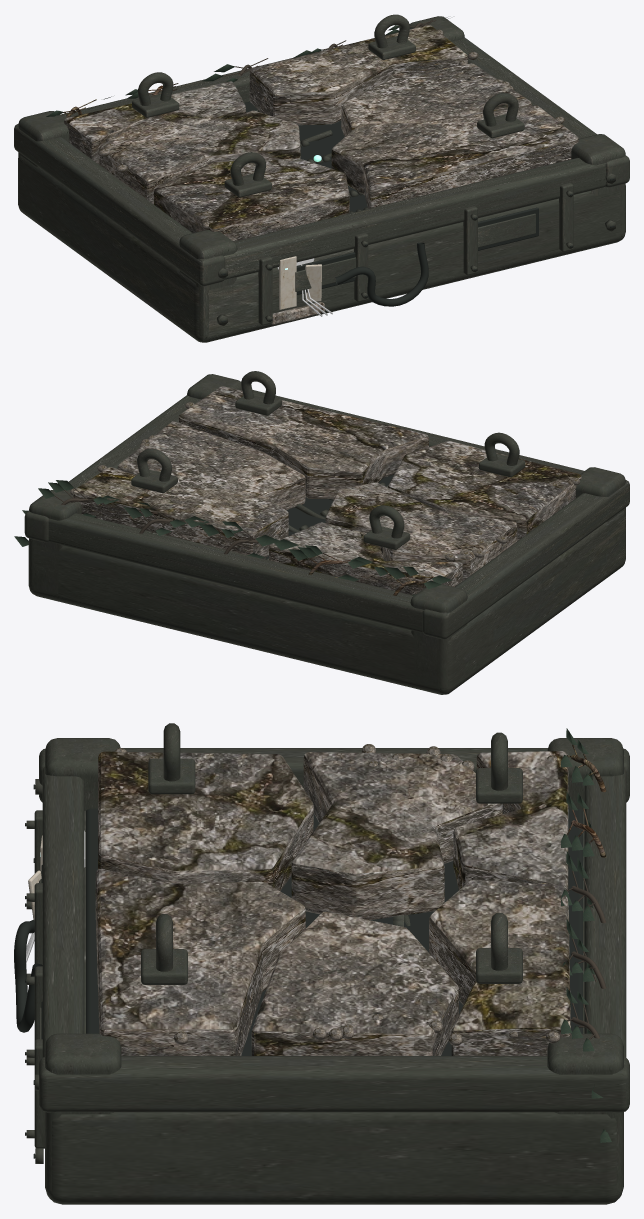
File: secret-slab-v2.glb
3 views of the same model, one above another, from view 1: azimuth 30°, elevation 25°; view 2: azimuth 150°, elevation 25°; view 3: azimuth 270°, elevation 25° (orthographic). The views are drawn at different scales.
Visible parts, largest first — view 1: slab-bioso-shared-steel, slab-bioso-shared-stone, slab-rubber, reused-environment-city-cabinet-v1, slab-bioso-shared-root, slab-bioso-shared-leaf; view 2: slab-bioso-shared-steel, slab-bioso-shared-stone, slab-bioso-shared-leaf, slab-bioso-shared-root, slab-rubber; view 3: slab-bioso-shared-stone, slab-bioso-shared-steel, slab-rubber, slab-bioso-shared-leaf, slab-bioso-shared-root.
Boxes of the visible parts, x1=… form: slab-bioso-shared-steel: x1=14, y1=14, x2=629, y2=342; slab-bioso-shared-stone: x1=64, y1=25, x2=578, y2=241; slab-rubber: x1=221, y1=101, x2=614, y2=322; reused-environment-city-cabinet-v1: x1=271, y1=256, x2=324, y2=324; slab-bioso-shared-root: x1=63, y1=19, x2=435, y2=117; slab-bioso-shared-leaf: x1=46, y1=17, x2=448, y2=116; slab-bioso-shared-steel: x1=24, y1=371, x2=629, y2=694; slab-bioso-shared-stone: x1=70, y1=386, x2=581, y2=595; slab-bioso-shared-leaf: x1=14, y1=480, x2=452, y2=595; slab-bioso-shared-root: x1=54, y1=488, x2=431, y2=595; slab-rubber: x1=266, y1=475, x2=393, y2=560; slab-bioso-shared-stone: x1=95, y1=744, x2=570, y2=1055; slab-bioso-shared-steel: x1=26, y1=723, x2=629, y2=1204; slab-rubber: x1=14, y1=784, x2=582, y2=1158; slab-bioso-shared-leaf: x1=560, y1=728, x2=611, y2=1142; slab-bioso-shared-root: x1=566, y1=744, x2=606, y2=1039.
Bounding box in the file's own units: 3.28 × 1 × 2.5.
Materials: 9 (5 with a texture image).
